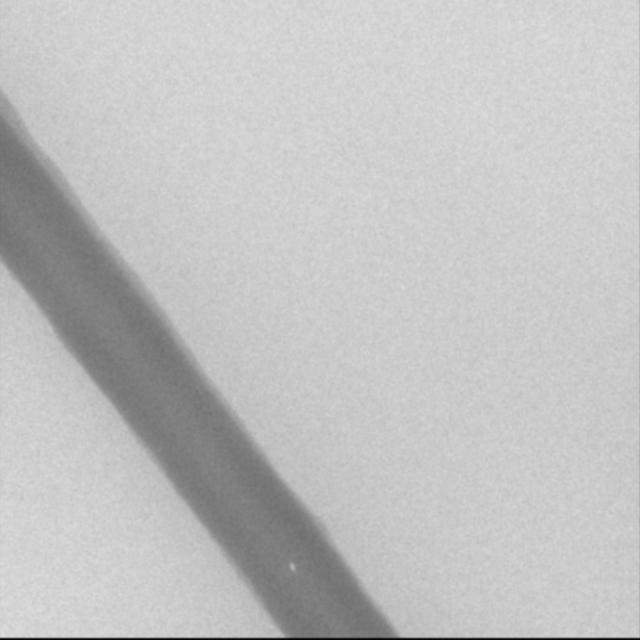air hole: (288, 560, 296, 573)
